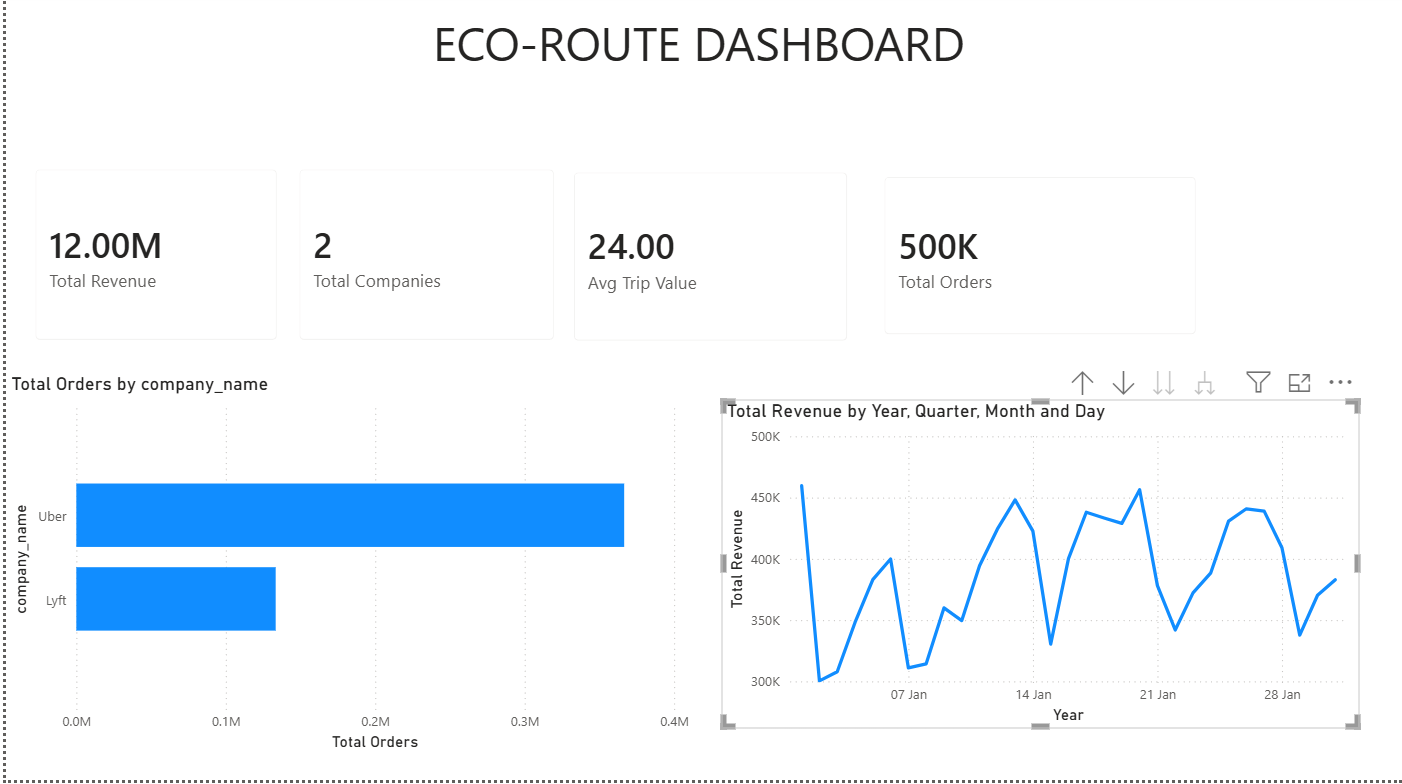

This screenshot's page, from the dashboard's own definition file:
{"tool":"powerbi","page":{"name":"Page 1","canvas":[1280,720],"ordinal":0},"visuals":[{"type":"lineChart","fields":{"Y":["project_dw fact_trips.Total Revenue"],"Category":["project_dw dim_date.full_date.Variation.Date Hierarchy.Year","project_dw dim_date.full_date.Variation.Date Hierarchy.Quarter","project_dw dim_date.full_date.Variation.Date Hierarchy.Month","project_dw dim_date.full_date.Variation.Date Hierarchy.Day"]},"box":[654.6,371.9,583.2,300.5],"z":0},{"type":"clusteredBarChart","fields":{"Category":["project_dw dim_company.company_name"],"Y":["project_dw fact_trips.Total Orders"]},"box":[0,347.2,629.9,349.9],"z":1},{"type":"cardVisual","fields":{"Data":["project_dw fact_trips.Total Revenue"]},"box":[9.6,144.1,255.3,190.8],"z":2},{"type":"cardVisual","fields":{"Data":["project_dw fact_trips.Total Orders"]},"box":[786.3,151,319.8,178.4],"z":3},{"type":"cardVisual","fields":{"Data":["project_dw fact_trips.Total Companies"]},"box":[251.1,144.1,267.6,190.8],"z":4},{"type":"cardVisual","fields":{"Data":["project_dw fact_trips.Avg Trip Value"]},"box":[502.3,146.8,284.1,188],"z":5},{"type":"textbox","box":[385.6,11,679.3,91.9],"z":6}]}

Visuals, with their boxes in screenshot pixels (x1, y1, x2, y2), scaled from the page's 1280x720 canvas onto the 1402x784 screenshot:
lineChart - project_dw fact_trips.Total Revenue x project_dw dim_date.full_date.Variation.Date Hierarchy.Year: 717,405,1356,732
clusteredBarChart - project_dw dim_company.company_name x project_dw fact_trips.Total Orders: 0,378,690,759
cardVisual - project_dw fact_trips.Total Revenue: 11,157,290,365
cardVisual - project_dw fact_trips.Total Orders: 861,164,1212,359
cardVisual - project_dw fact_trips.Total Companies: 275,157,568,365
cardVisual - project_dw fact_trips.Avg Trip Value: 550,160,861,365
textbox: 422,12,1166,112
